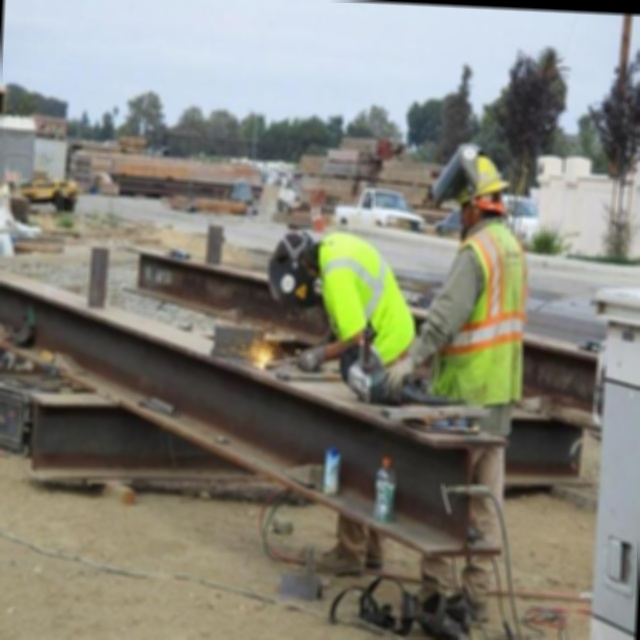Con_Chaleco: (434, 224, 527, 405), (315, 232, 420, 365)
